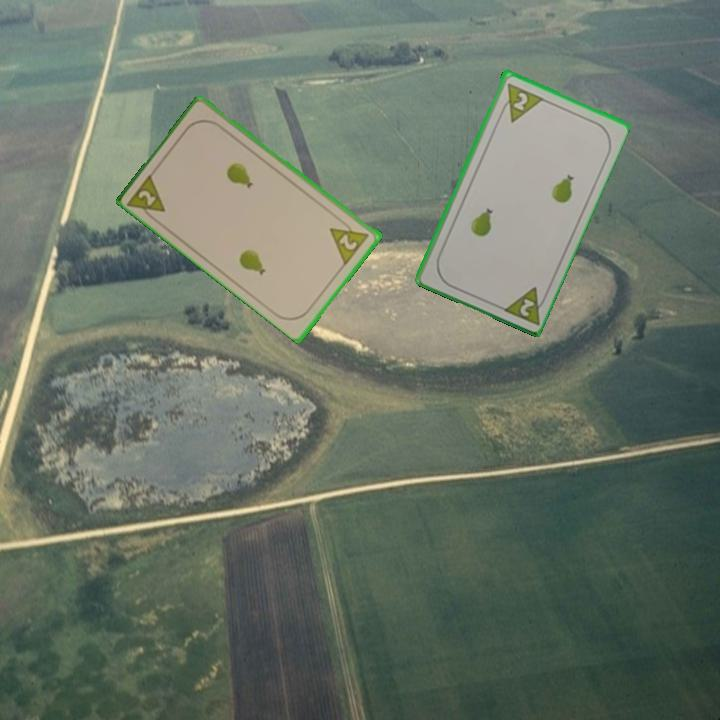2p: (125, 169, 169, 225), (326, 214, 372, 267), (498, 282, 551, 327), (495, 79, 545, 125)
